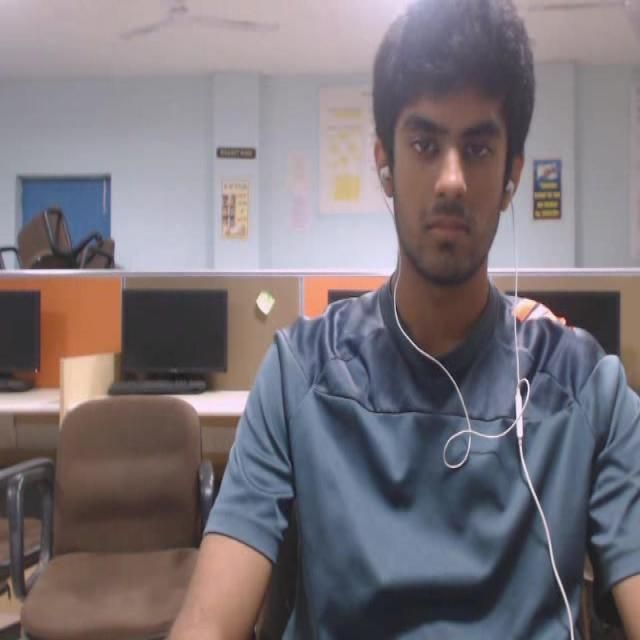Bored: (359, 0, 541, 303)
